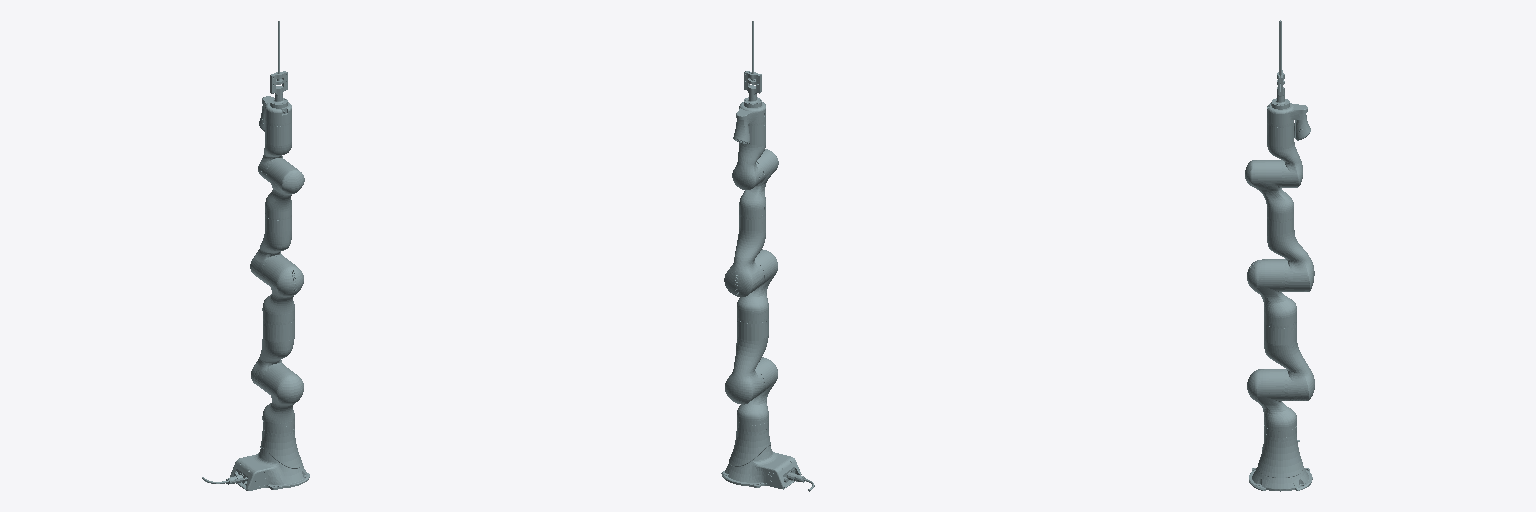
The robot description file, URDF, robot "xmate":
<?xml version="1.0" encoding="utf-8"?>
<!-- This URDF was automatically created by SolidWorks to URDF Exporter! Originally created by [author] ([email redacted]) 
     Commit Version: 1.6.0-1-g15f4949  Build Version: 1.6.7594.29634
     For more information, please see http://wiki.ros.org/sw_urdf_exporter -->
<robot
  name="xmate">
  <link
    name="base_link">
    <inertial>
      <origin
        xyz="-0.019088 4.4427E-05 0.06241"
        rpy="0 0 0" />
      <mass
        value="3.1488" />
      <inertia
        ixx="0.011844"
        ixy="2.9236E-05"
        ixz="-0.0019436"
        iyy="0.016485"
        iyz="5.2961E-06"
        izz="0.013575" />
    </inertial>
    <visual>
      <origin
        xyz="0 0 0"
        rpy="0 0 0" />
      <geometry>
        <mesh
          filename="meshes/base_link.STL" />
      </geometry>
      <material
        name="">
        <color
          rgba="0.59216 0.66667 0.68235 1" />
      </material>
    </visual>
    <collision>
      <origin
        xyz="0 0 0"
        rpy="0 0 0" />
      <geometry>
        <mesh
          filename="meshes/base_link.STL" />
      </geometry>
    </collision>
  </link>
  <link
    name="link1">
    <inertial>
      <origin
        xyz="3.718E-06 -0.025274 -0.053444"
        rpy="0 0 0" />
      <mass
        value="1.8005" />
      <inertia
        ixx="0.0095698"
        ixy="-6.8656E-07"
        ixz="-4.825E-07"
        iyy="0.0085643"
        iyz="0.0019573"
        izz="0.0033056" />
    </inertial>
    <visual>
      <origin
        xyz="0 0 0"
        rpy="0 0 0" />
      <geometry>
        <mesh
          filename="meshes/link1.STL" />
      </geometry>
      <material
        name="">
        <color
          rgba="0.59216 0.66667 0.68235 1" />
      </material>
    </visual>
    <collision>
      <origin
        xyz="0 0 0"
        rpy="0 0 0" />
      <geometry>
        <mesh
          filename="meshes/link1.STL" />
      </geometry>
    </collision>
  </link>
  <joint
    name="joint1"
    type="revolute">
    <origin
      xyz="0 0 0.3415"
      rpy="0 0 0" />
    <parent
      link="base_link" />
    <child
      link="link1" />
    <axis
      xyz="0 0 -1" />
    <limit
      lower="-2.967"
      upper="2.967"
      effort="94"
      velocity="1.5708" />
  </joint>
  <link
    name="link2">
    <inertial>
      <origin
        xyz="-6.1017E-06 0.094688 -0.027636"
        rpy="0 0 0" />
      <mass
        value="2.1853" />
      <inertia
        ixx="0.017961"
        ixy="-2.0946E-07"
        ixz="-7.2091E-07"
        iyy="0.0044673"
        iyz="-0.0045671"
        izz="0.016295" />
    </inertial>
    <visual>
      <origin
        xyz="0 0 0"
        rpy="0 0 0" />
      <geometry>
        <mesh
          filename="meshes/link2.STL" />
      </geometry>
      <material
        name="">
        <color
          rgba="0.59216 0.66667 0.68235 1" />
      </material>
    </visual>
    <collision>
      <origin
        xyz="0 0 0"
        rpy="0 0 0" />
      <geometry>
        <mesh
          filename="meshes/link2.STL" />
      </geometry>
    </collision>
  </link>
  <joint
    name="joint2"
    type="revolute">
    <origin
      xyz="0 0 0"
      rpy="1.5708 0 0" />
    <parent
      link="link1" />
    <child
      link="link2" />
    <axis
      xyz="0 0 1" />
    <limit
      lower="-2.094"
      upper="2.094"
      effort="110"
      velocity="1.5708" />
  </joint>
  <link
    name="link3">
    <inertial>
      <origin
        xyz="2.1156E-06 -0.025028 -0.05362"
        rpy="0 0 0" />
      <mass
        value="1.7944" />
      <inertia
        ixx="0.0095219"
        ixy="-6.2641E-07"
        ixz="-6.12E-07"
        iyy="0.0085458"
        iyz="0.0019369"
        izz="0.003276" />
    </inertial>
    <visual>
      <origin
        xyz="0 0 0"
        rpy="0 0 0" />
      <geometry>
        <mesh
          filename="meshes/link3.STL" />
      </geometry>
      <material
        name="">
        <color
          rgba="0.59216 0.66667 0.68235 1" />
      </material>
    </visual>
    <collision>
      <origin
        xyz="0 0 0"
        rpy="0 0 0" />
      <geometry>
        <mesh
          filename="meshes/link3.STL" />
      </geometry>
    </collision>
  </link>
  <joint
    name="joint3"
    type="revolute">
    <origin
      xyz="0 0.393999905526754 0"
      rpy="-1.57079213361702 0 0" />
    <parent
      link="link2" />
    <child
      link="link3" />
    <axis
      xyz="0 0 -0.999999999999926" />
    <limit
      lower="-2.967"
      upper="2.967"
      effort="94"
      velocity="1.5708" />
  </joint>
  <link
    name="link4">
    <inertial>
      <origin
        xyz="3.4698E-06 0.075813 -0.032773"
        rpy="0 0 0" />
      <mass
        value="1.7968" />
      <inertia
        ixx="0.013064"
        ixy="-8.1018E-07"
        ixz="-2.1089E-07"
        iyy="0.0033492"
        iyz="-0.0034602"
        izz="0.011734" />
    </inertial>
    <visual>
      <origin
        xyz="0 0 0"
        rpy="0 0 0" />
      <geometry>
        <mesh
          filename="meshes/link4.STL" />
      </geometry>
      <material
        name="">
        <color
          rgba="0.59216 0.66667 0.68235 1" />
      </material>
    </visual>
    <collision>
      <origin
        xyz="0 0 0"
        rpy="0 0 0" />
      <geometry>
        <mesh
          filename="meshes/link4.STL" />
      </geometry>
    </collision>
  </link>
  <joint
    name="joint4"
    type="revolute">
    <origin
      xyz="0 0 0"
      rpy="1.57079676786636 0 0" />
    <parent
      link="link3" />
    <child
      link="link4" />
    <axis
      xyz="0 0 1" />
    <limit
      lower="-2.094"
      upper="2.094"
      effort="94"
      velocity="1.5708" />
  </joint>
  <link
    name="link5">
    <inertial>
      <origin
        xyz="1.21714844333112E-05 -0.031276169623672 -0.0457006069210442"
        rpy="0 0 0" />
      <mass
        value="1.29581282436521" />
      <inertia
        ixx="0.00598551933152671"
        ixy="-4.76355081923921E-07"
        ixz="5.45716422648001E-07"
        iyy="0.00489832818590761"
        iyz="0.00152655463457091"
        izz="0.00226748492439003" />
    </inertial>
    <visual>
      <origin
        xyz="0 0 0"
        rpy="0 0 0" />
      <geometry>
        <mesh
          filename="meshes/link5.STL" />
      </geometry>
      <material
        name="">
        <color
          rgba="0.592156862745098 0.666666666666667 0.682352941176471 1" />
      </material>
    </visual>
    <collision>
      <origin
        xyz="0 0 0"
        rpy="0 0 0" />
      <geometry>
        <mesh
          filename="meshes/link5.STL" />
      </geometry>
    </collision>
  </link>
  <joint
    name="joint5"
    type="revolute">
    <origin
      xyz="0 0.366 0"
      rpy="-1.5708 0 0" />
    <parent
      link="link4" />
    <child
      link="link5" />
    <axis
      xyz="0 0 -1" />
    <limit
      lower="-2.967"
      upper="2.967"
      effort="29"
      velocity="1.9625" />
  </joint>
  <link
    name="link6">
    <inertial>
      <origin
        xyz="1.2826E-05 0.084294 -0.015149"
        rpy="0 0 0" />
      <mass
        value="1.2251" />
      <inertia
        ixx="0.0062841"
        ixy="3.4425E-07"
        ixz="1.1226E-07"
        iyy="0.0014649"
        iyz="-0.0012842"
        izz="0.0059858" />
    </inertial>
    <visual>
      <origin
        xyz="0 0 0"
        rpy="0 0 0" />
      <geometry>
        <mesh
          filename="meshes/link6.STL" />
      </geometry>
      <material
        name="">
        <color
          rgba="0.59216 0.66667 0.68235 1" />
      </material>
    </visual>
    <collision>
      <origin
        xyz="0 0 0"
        rpy="0 0 0" />
      <geometry>
        <mesh
          filename="meshes/link6.STL" />
      </geometry>
    </collision>
  </link>
  <joint
    name="joint6"
    type="revolute">
    <origin
      xyz="0 0 0"
      rpy="1.5707963267949 0 0" />
    <parent
      link="link5" />
    <child
      link="link6" />
    <axis
      xyz="0 0 1" />
    <limit
      lower="-2.094"
      upper="2.094"
      effort="29"
      velocity="1.9625" />
  </joint>
  <link
    name="link7">
    <inertial>
      <origin
        xyz="3.118E-05 0.019818 -0.027775"
        rpy="0 0 0" />
      <mass
        value="0.64405" />
      <inertia
        ixx="0.0013047"
        ixy="-2.298E-07"
        ixz="-6.1879E-07"
        iyy="0.00079066"
        iyz="0.00027874"
        izz="0.0009789" />
    </inertial>
    <visual>
      <origin
        xyz="0 0 0"
        rpy="0 0 0" />
      <geometry>
        <mesh
          filename="meshes/link7.STL" />
      </geometry>
      <material
        name="">
        <color
          rgba="0.59216 0.66667 0.68235 1" />
      </material>
    </visual>
    <collision>
      <origin
        xyz="0 0 0"
        rpy="0 0 0" />
      <geometry>
        <mesh
          filename="meshes/link7.STL" />
      </geometry>
    </collision>
  </link>
  <joint
    name="joint7"
    type="revolute">
    <origin
      xyz="0 0.25029999994029 0.000382043934667175"
      rpy="-1.5707963267949 0 0" />
    <parent
      link="link6" />
    <child
      link="link7" />
    <axis
      xyz="0 0 -1" />
    <limit
      lower="-6.28"
      upper="6.28"
      effort="29"
      velocity="1.9625" />
  </joint>
</robot>

--- Render facts (derived) ---
3 views of the same robot in one strip: view 1: azimuth 30°, elevation 25°; view 2: azimuth 150°, elevation 25°; view 3: azimuth 270°, elevation 25° (orthographic).
Robot: xmate — 8 links, 7 joints (7 revolute); root link base_link; default pose: all joints at 0.
Links seen in each view (by area): view 1: base_link, link1, link3, link5, link2, link7, link4, link6; view 2: base_link, link2, link4, link7, link6, link3, link1, link5; view 3: base_link, link2, link3, link1, link4, link5, link7, link6.
Link boxes in pixels (x1,y1,x2,y2): base_link: [202, 429, 309, 490]; link1: [262, 365, 303, 433]; link3: [262, 256, 303, 324]; link5: [265, 159, 304, 220]; link2: [251, 320, 294, 391]; link7: [259, 21, 291, 131]; link4: [250, 216, 291, 282]; link6: [258, 122, 291, 181]; base_link: [721, 427, 814, 491]; link2: [725, 319, 768, 404]; link4: [724, 215, 765, 296]; link7: [733, 21, 765, 143]; link6: [732, 123, 765, 189]; link3: [737, 249, 777, 323]; link1: [737, 357, 777, 431]; link5: [739, 149, 778, 219]; base_link: [1249, 432, 1312, 491]; link2: [1264, 323, 1314, 400]; link3: [1247, 259, 1296, 328]; link1: [1247, 369, 1296, 437]; link4: [1267, 219, 1314, 291]; link5: [1245, 160, 1293, 222]; link7: [1267, 20, 1310, 140]; link6: [1267, 124, 1302, 187].
Bounding box of the posed robot: 0.345 × 0.2291 × 1.65 m (x, y, z).
Meshes: 8 distinct files referenced, 8 mesh visuals loaded (8 binary STL).